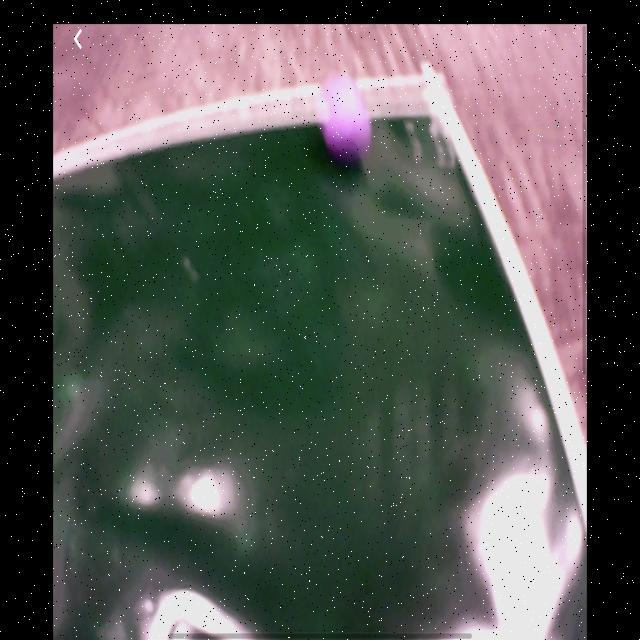ball: (317, 70, 373, 166)
